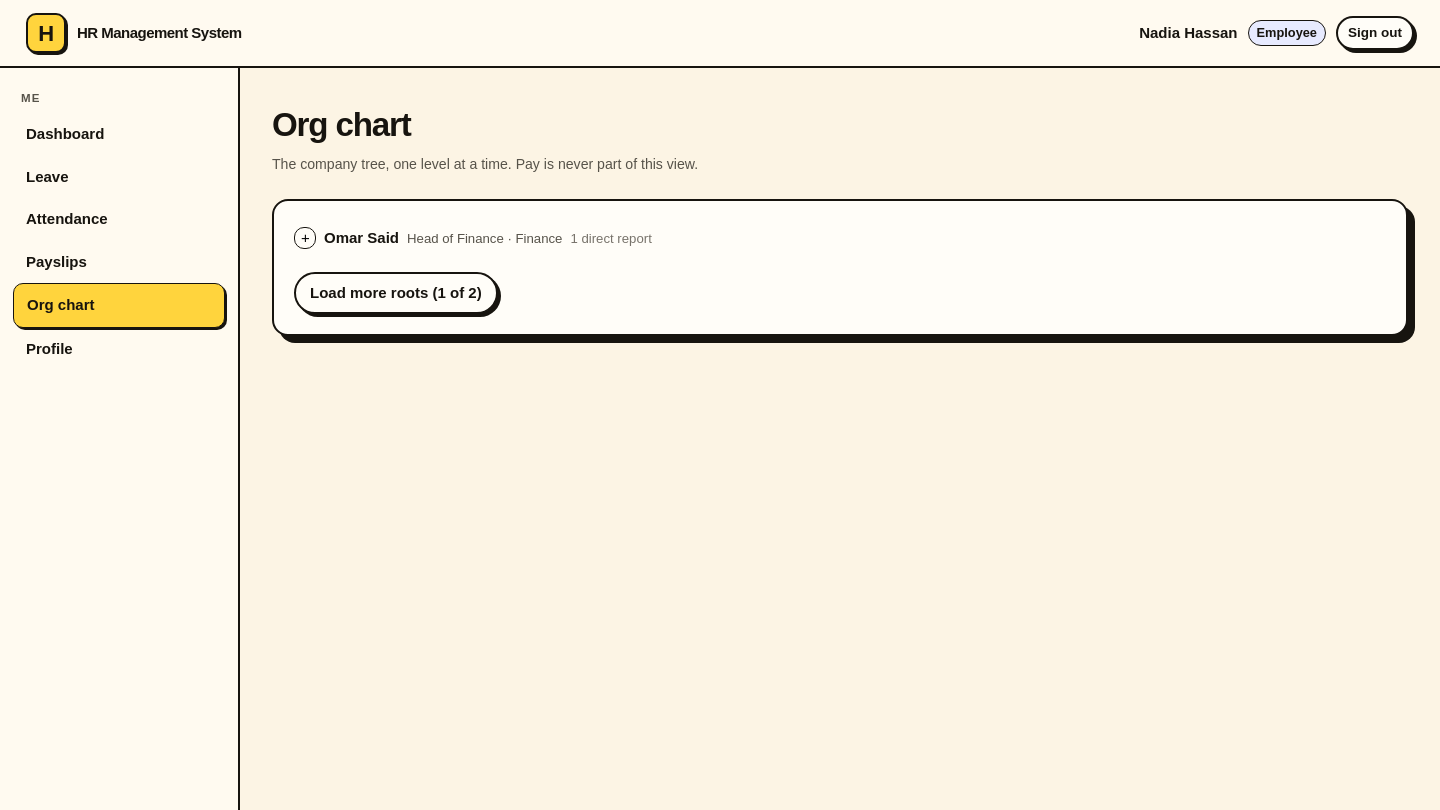
Test case: org chart › supports paged continuation for roots and child reports
Expected: the text "Omar Said" is shown, [324,227,399,250]
Expected: the button "Load more roots (1 of 2)" is shown, [294,272,498,314]
// Expand the first root before appending more roots: its loaded branch must survive.
Click the button named "Expand the reports of Omar Said".
click(305, 238)  # box [294,227,316,249]
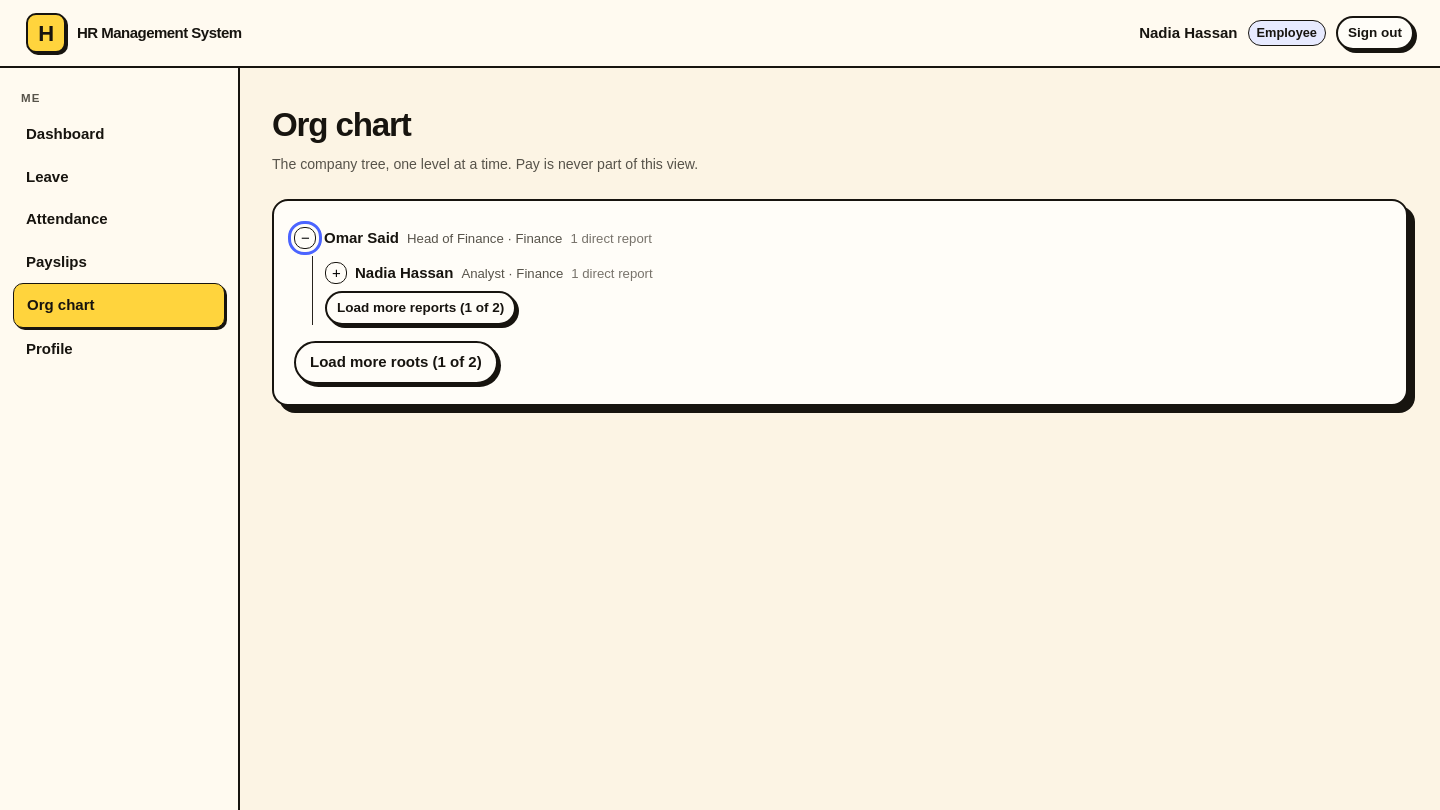
Now the text "Nadia Hassan" next to "Analyst" is shown, box [355,264,453,281]
Click the button "Load more roots (1 of 2)".
click(396, 362)  # box [294,341,498,384]
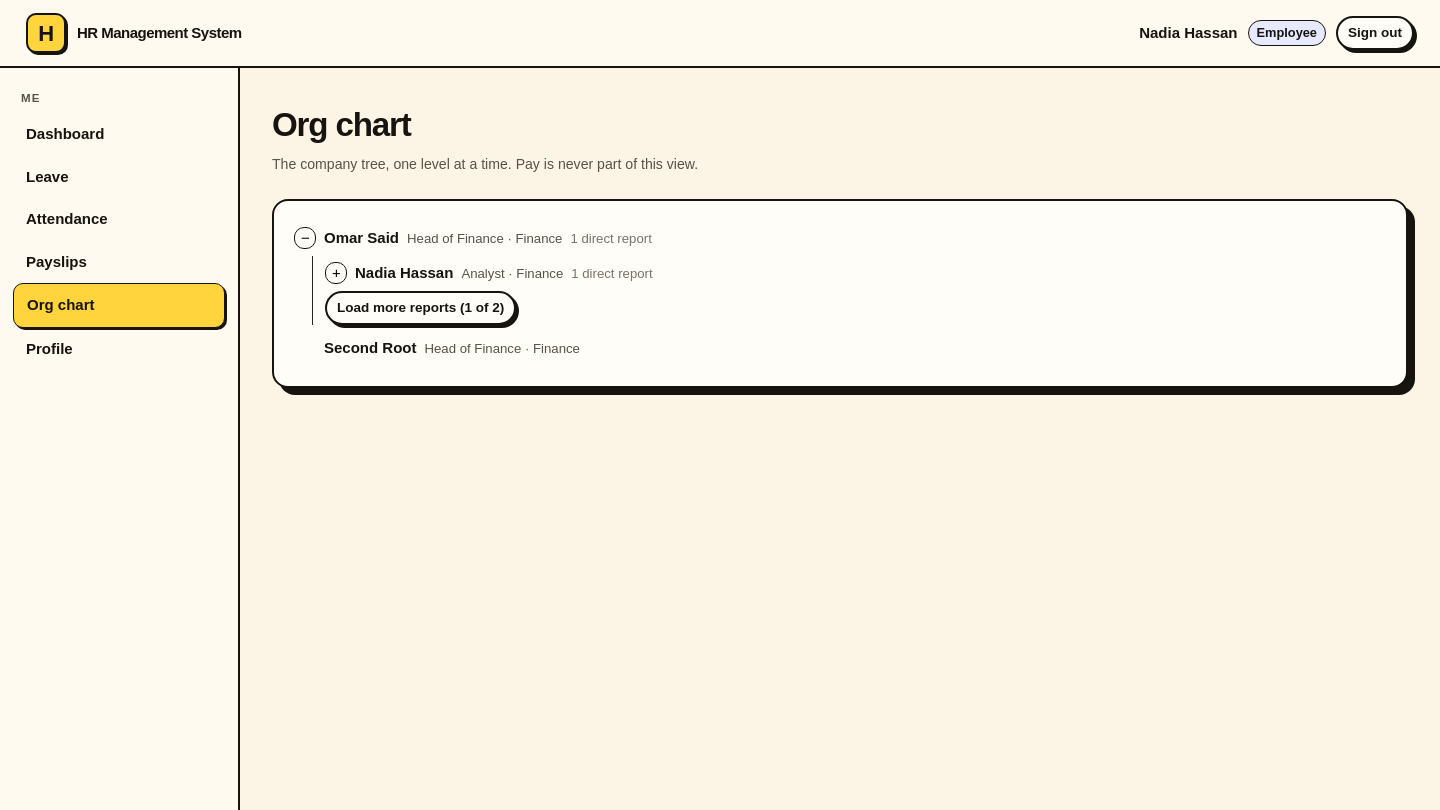
Now the text "Nadia Hassan" next to "Analyst" is shown, box [355,264,453,281]
Now the button "Load more reports (1 of 2)" is shown
Now the text "Second Root" is shown, box [324,337,416,360]
Click the button "Load more reports (1 of 2)".
click(421, 308)  # box [325,291,516,325]
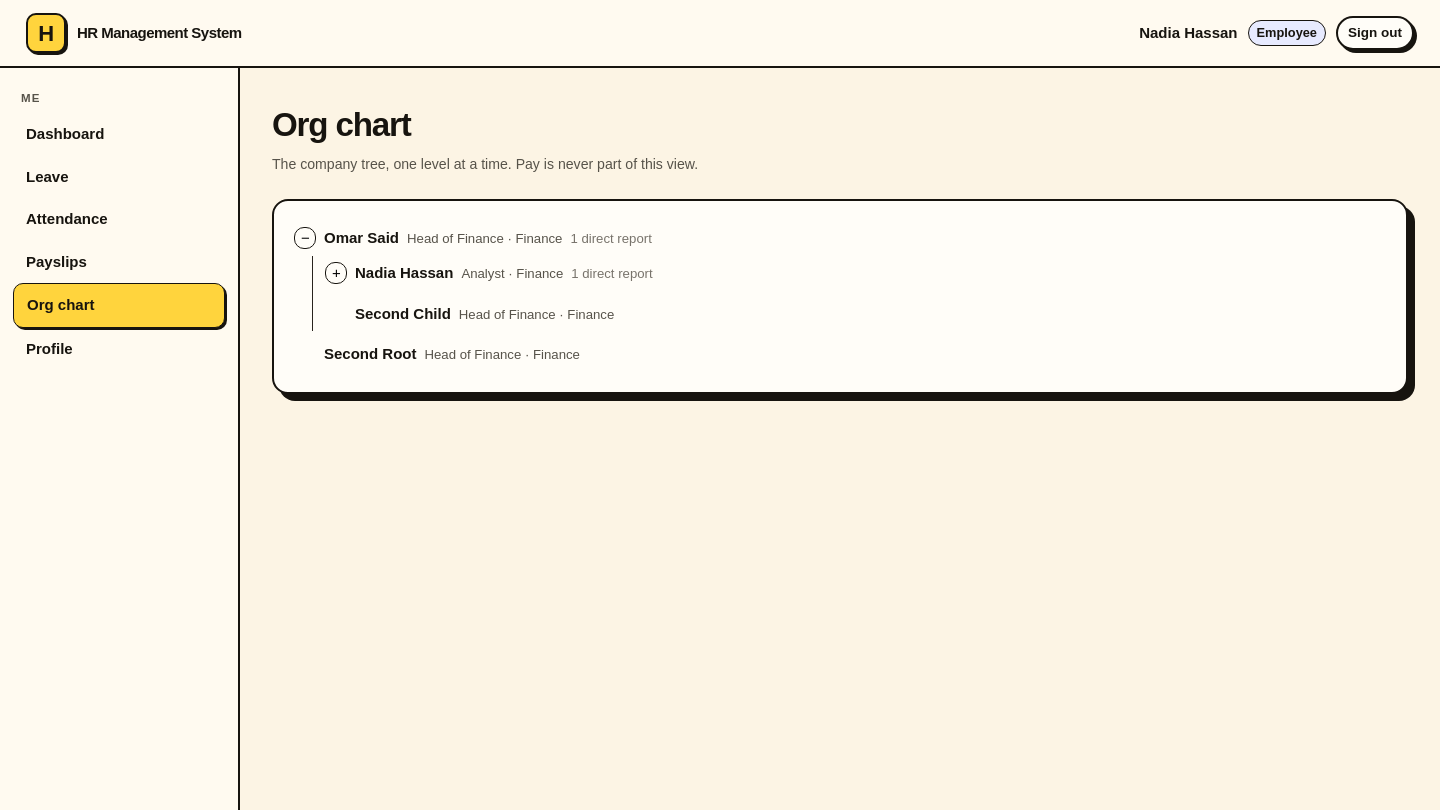
Now the text "Second Child" is shown, box [355,303,451,325]
